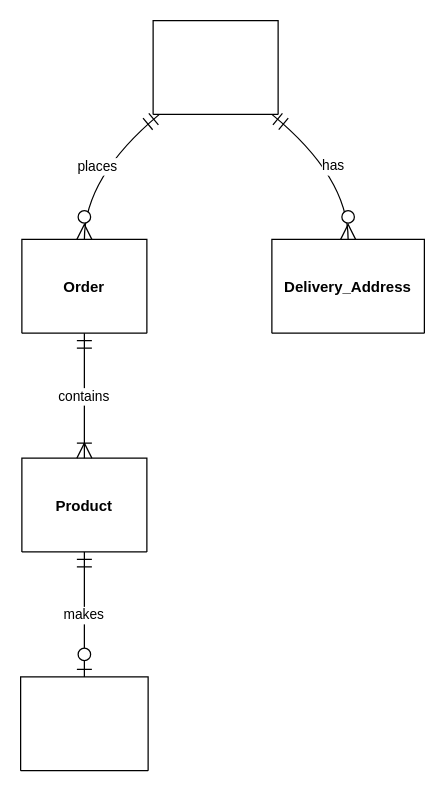
Image size: 445x791. Some labels were removed from this diagram. The centre of each missing label's shape, as x and y in pixels:
"Customer" belongs at (x=215, y=66).
"Manufacturer" belongs at (x=83, y=723).
